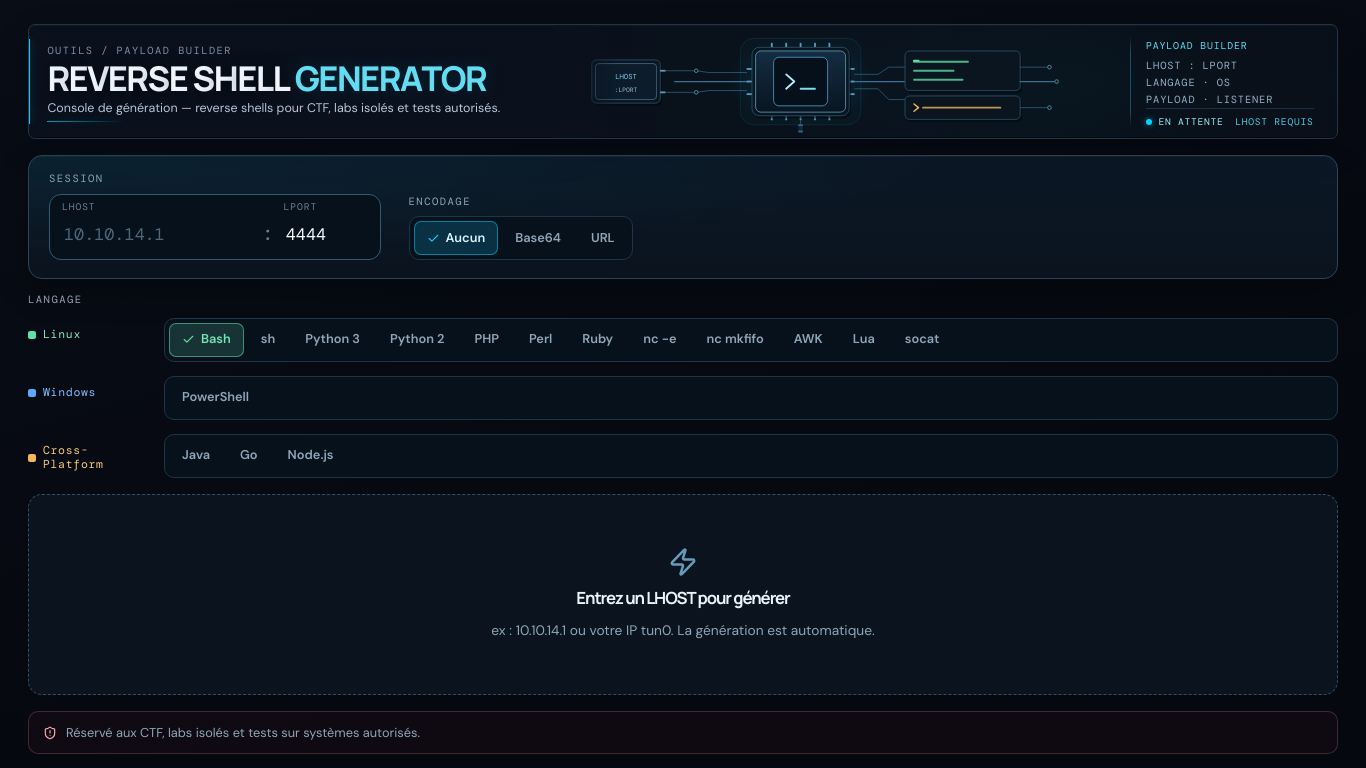
Test: Reverse Shell Generator request state › invalidates an in-flight response when language changes
Type "10.0.0.1" into the field labelled "LHOST" at (157, 234), box [62,216,252,252]
Wait 300 ms
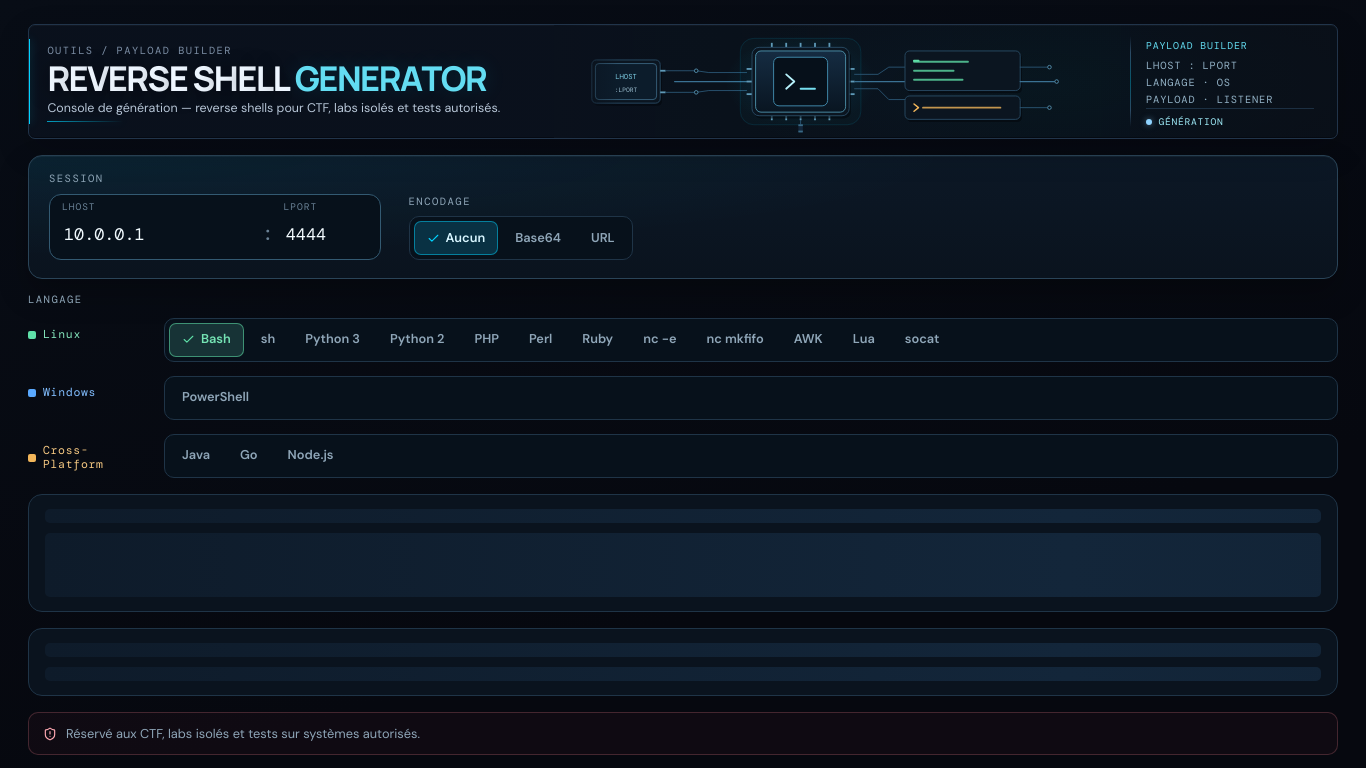
Click the button "Python 3" at (333, 340), box [292,323,373,357]
Wait 300 ms
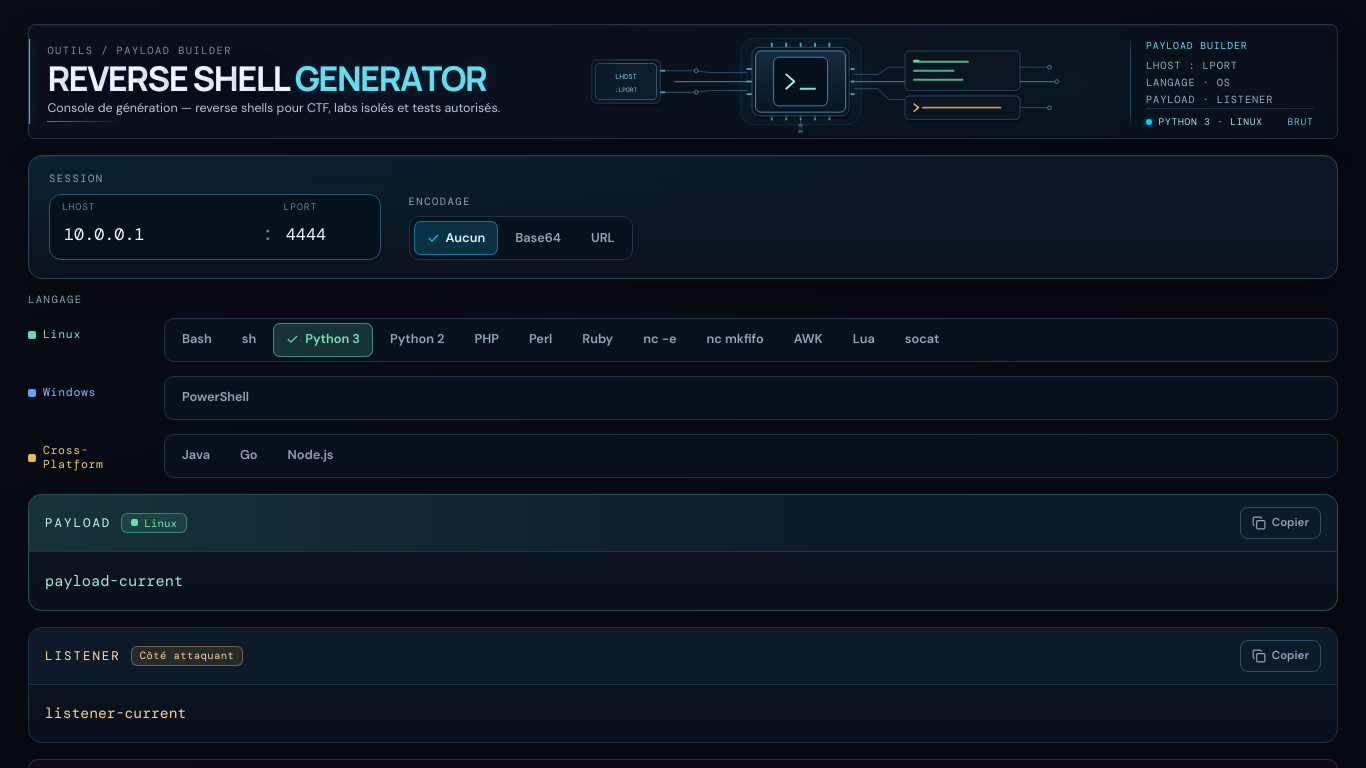
Now the text "payload-current" is shown, box [45,571,183,591]
